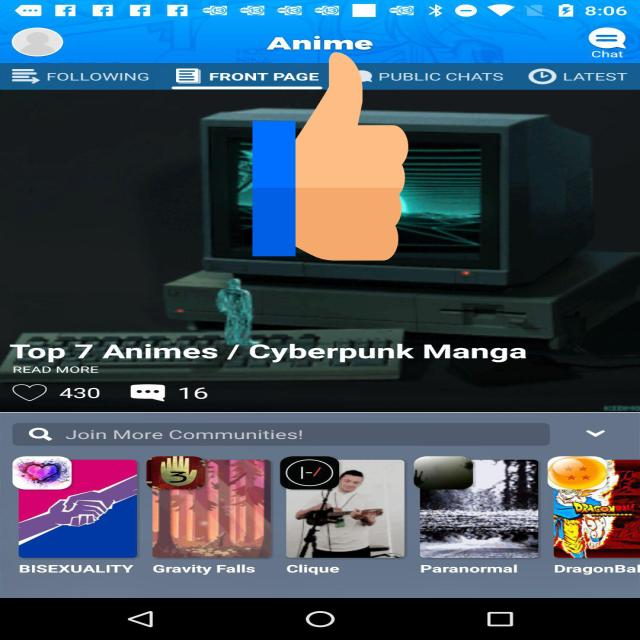privacy zuckering: (252, 47, 408, 266)
